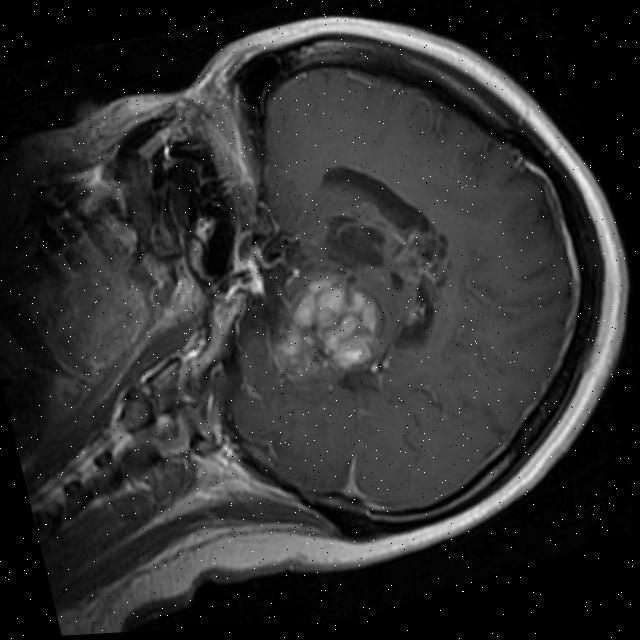Glioma: (259, 261, 395, 392), (381, 217, 468, 331)
